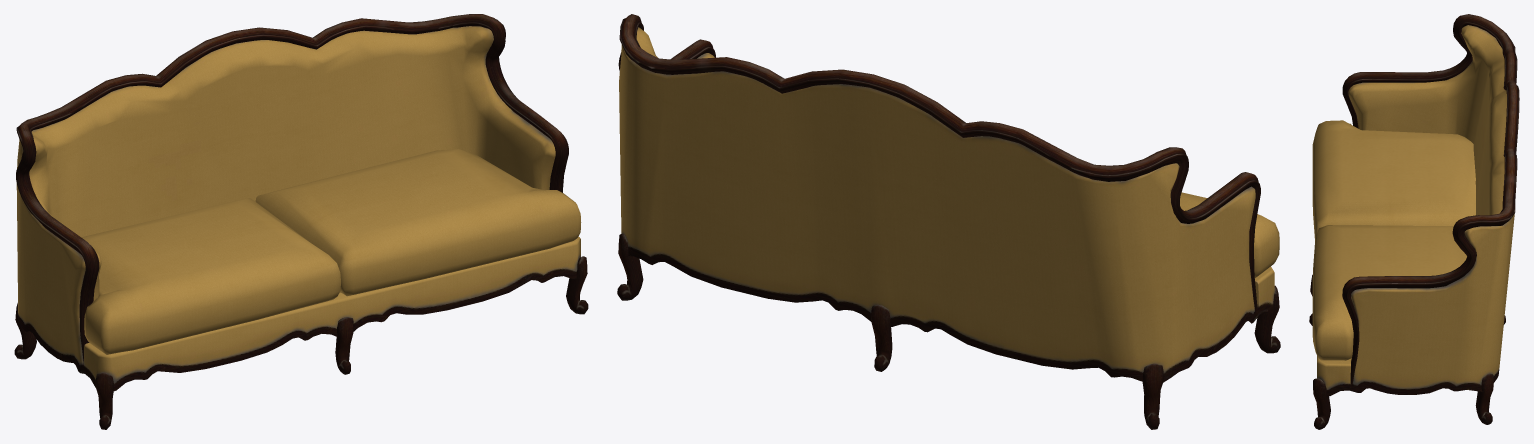
The model's file is linden_ochre-velvet.glb.
3 renders of one model, left to right at view 1: azimuth 30°, elevation 25°; view 2: azimuth 150°, elevation 25°; view 3: azimuth 270°, elevation 25°, orthographic. The views are drawn at different scales.
Parts seen in each view (by area): view 1: Sofa_01; view 2: Sofa_01; view 3: Sofa_01.
Part boxes in pixels (<box>): Sofa_01: <box>14,14,588,429</box>; Sofa_01: <box>617,14,1280,429</box>; Sofa_01: <box>1309,14,1519,429</box>.
Size of the model in its own units: 1.57 by 0.7965 by 0.658.
1 material, 1 textured.
